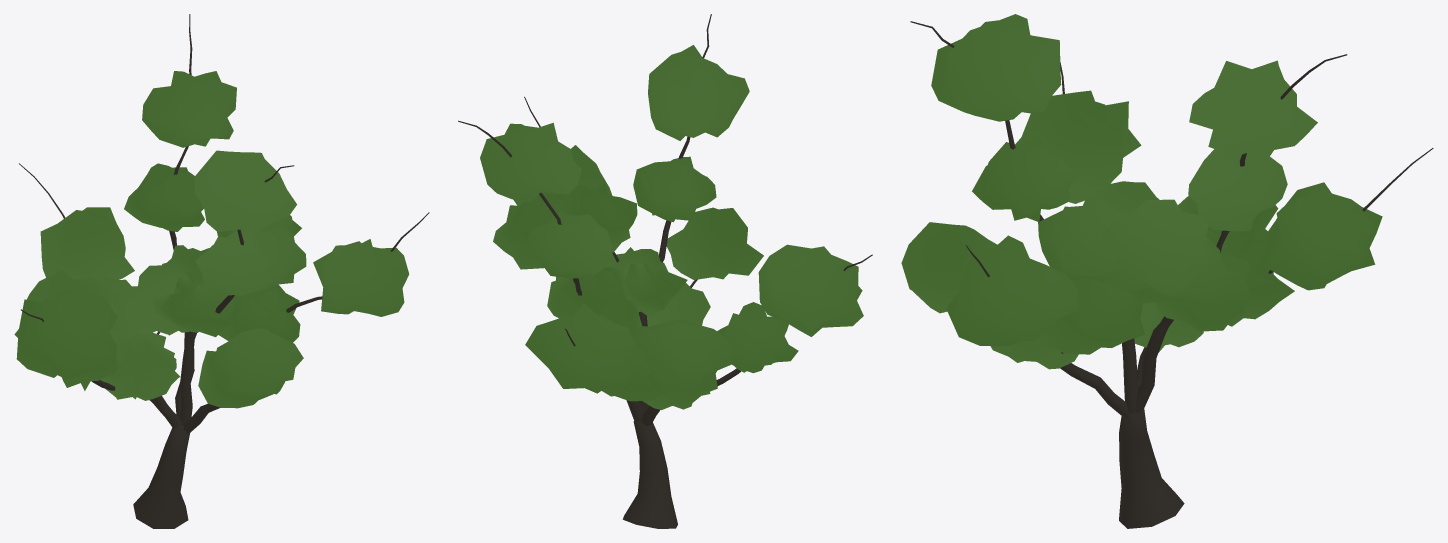
File: Blender_BlackjackOak_1.glb
3 views of the same model, side by side, from view 1: azimuth 30°, elevation 25°; view 2: azimuth 150°, elevation 25°; view 3: azimuth 270°, elevation 25° (orthographic). The views are drawn at different scales.
Visible parts, largest first — view 1: Blender_BlackjackOak_1; view 2: Blender_BlackjackOak_1; view 3: Blender_BlackjackOak_1.
Part boxes in pixels (x1,y1,x2,y2): Blender_BlackjackOak_1: (14,14,429,528); Blender_BlackjackOak_1: (458,14,872,528); Blender_BlackjackOak_1: (901,14,1433,528).
Bounding box in the file's own units: 7.59 × 8.25 × 7.48.
